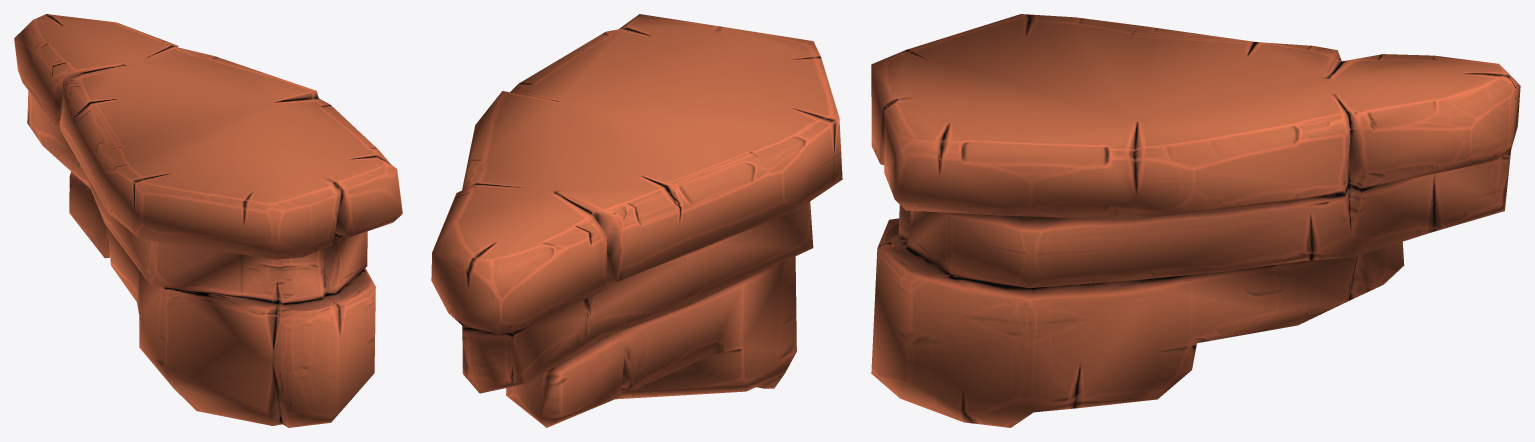
File: rock_1.fbx
3 renders of one model, left to right at view 1: azimuth 30°, elevation 25°; view 2: azimuth 150°, elevation 25°; view 3: azimuth 270°, elevation 25°, orthographic. The views are drawn at different scales.
Visible parts, largest first — view 1: Low_1; view 2: Low_1; view 3: Low_1.
Part boxes in pixels (x1,y1,x2,y2): Low_1: [14, 14, 402, 427]; Low_1: [431, 14, 842, 427]; Low_1: [871, 14, 1520, 427].
Size of the model in its own units: 165 by 165 by 323.
Materials: 1 (1 with a texture image).
